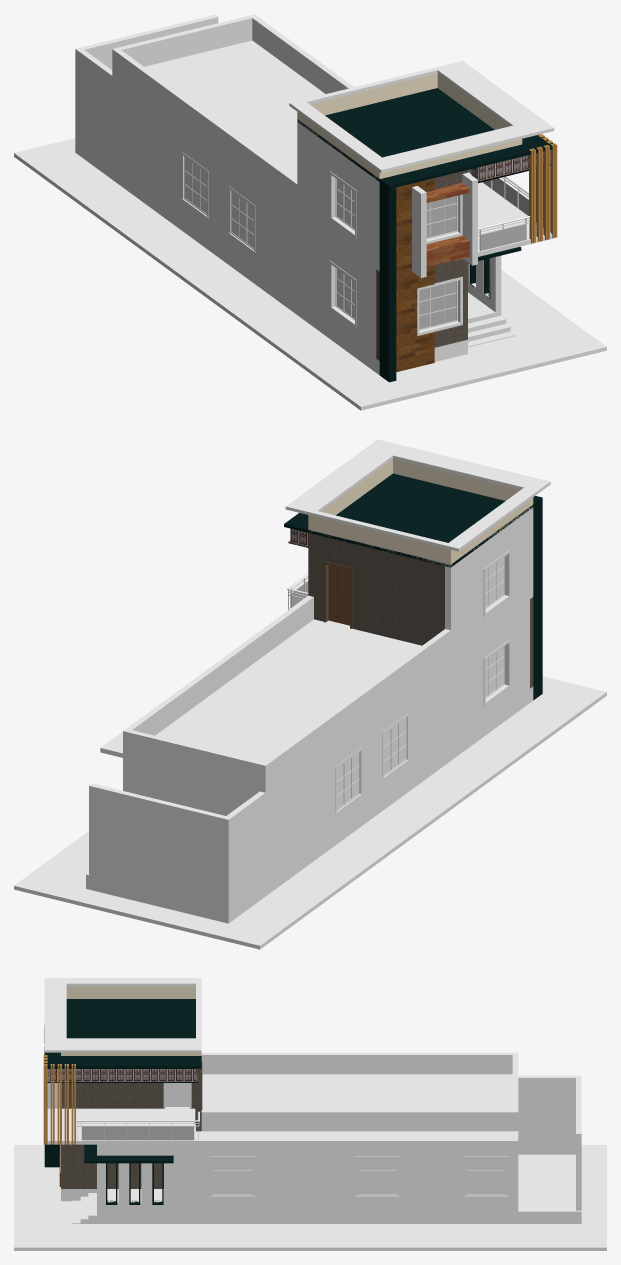
The model's file is house.glb.
3 renders of one model, top to bottom at view 1: azimuth 30°, elevation 25°; view 2: azimuth 150°, elevation 25°; view 3: azimuth 270°, elevation 25°, orthographic. The views are drawn at different scales.
Visible parts, largest first — view 1: Basic Wall Generic - 8" [184203]_01 - Default_0, Basic Wall Generic - 8" [184228]__0, Roof Soffit Generic - 4" [186842]_09 - Default_0, Air Terminals 6 Air Terminals 6 [190493]_18 - Default_0, Basic Wall Generic - 8" [187863]_03 - Default_0, Casement 3x3 with Trim 36" x 60" 2 [185287]_12 - Default_0, Air Terminals 2 Air Terminals 2 [187696]_13 - Default_0, Basic Wall Generic - 8" [184147]_08 - Default_0, Air Terminals 1 Air Terminals 1 [187243]_02 - Default_0, Air Terminals 5 Air Terminals 5 [189788]_07 - Default_0; view 2: Basic Wall Generic - 8" [184203]_01 - Default_0, Basic Wall Generic - 8" [184228]__0, Basic Wall Generic - 8" [184147]_08 - Default_0, Roof Soffit Generic - 4" [186842]_09 - Default_0, Basic Wall Generic - 8" [187863]_03 - Default_0, Single-Flush 34" x 84" [186791]_11 - Default_0; view 3: Basic Wall Generic - 8" [184203]_01 - Default_0, Basic Wall Generic - 8" [184228]__0, Roof Soffit Generic - 4" [186842]_09 - Default_0, Basic Wall Generic - 8" [184147]_08 - Default_0, Basic Wall Generic - 8" [187863]_03 - Default_0, Air Terminals 2 Air Terminals 2 [187696]_13 - Default_0, Air Terminals 5 Air Terminals 5 [189788]_07 - Default_0, Casement 3x3 with Trim 36" x 60" 2 [185287]_12 - Default_0.
Boxes of the visible parts, x1,y1,x2,y2 form: Basic Wall Generic - 8" [184203]_01 - Default_0: [75, 14, 554, 374]; Basic Wall Generic - 8" [184228]__0: [14, 14, 606, 410]; Roof Soffit Generic - 4" [186842]_09 - Default_0: [297, 88, 552, 382]; Air Terminals 6 Air Terminals 6 [190493]_18 - Default_0: [396, 178, 434, 371]; Basic Wall Generic - 8" [187863]_03 - Default_0: [297, 73, 522, 178]; Casement 3x3 with Trim 36" x 60" 2 [185287]_12 - Default_0: [419, 169, 528, 329]; Air Terminals 2 Air Terminals 2 [187696]_13 - Default_0: [529, 134, 557, 243]; Basic Wall Generic - 8" [184147]_08 - Default_0: [376, 170, 467, 360]; Air Terminals 1 Air Terminals 1 [187243]_02 - Default_0: [426, 182, 469, 267]; Air Terminals 5 Air Terminals 5 [189788]_07 - Default_0: [471, 150, 550, 181]; Basic Wall Generic - 8" [184203]_01 - Default_0: [86, 439, 550, 923]; Basic Wall Generic - 8" [184228]__0: [14, 549, 606, 949]; Basic Wall Generic - 8" [184147]_08 - Default_0: [308, 533, 533, 688]; Roof Soffit Generic - 4" [186842]_09 - Default_0: [284, 473, 542, 700]; Basic Wall Generic - 8" [187863]_03 - Default_0: [308, 458, 533, 567]; Single-Flush 34" x 84" [186791]_11 - Default_0: [323, 561, 352, 628]; Basic Wall Generic - 8" [184203]_01 - Default_0: [44, 978, 581, 1223]; Basic Wall Generic - 8" [184228]__0: [14, 1078, 606, 1250]; Roof Soffit Generic - 4" [186842]_09 - Default_0: [44, 999, 201, 1204]; Basic Wall Generic - 8" [184147]_08 - Default_0: [61, 1068, 201, 1188]; Basic Wall Generic - 8" [187863]_03 - Default_0: [61, 986, 201, 1055]; Air Terminals 2 Air Terminals 2 [187696]_13 - Default_0: [43, 1055, 75, 1144]; Air Terminals 5 Air Terminals 5 [189788]_07 - Default_0: [47, 1069, 197, 1081]; Casement 3x3 with Trim 36" x 60" 2 [185287]_12 - Default_0: [82, 1126, 193, 1140].
Size of the model in its own units: 8.77 by 7.42 by 21.41.
12 materials, 6 textured.
